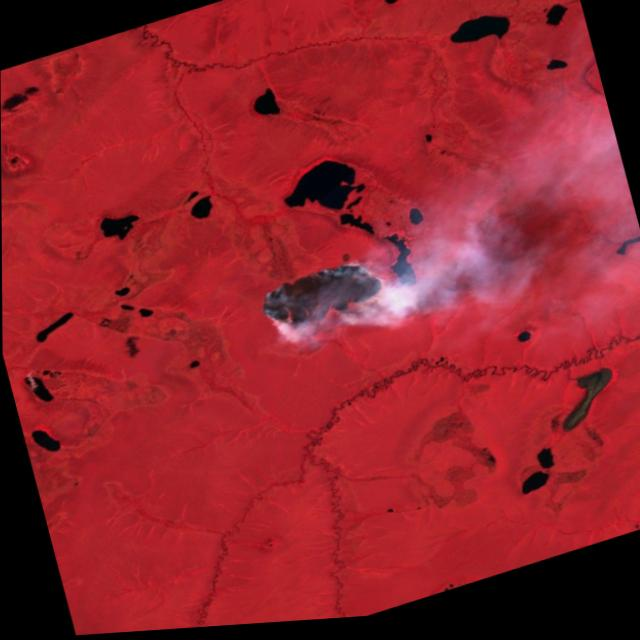fire: (246, 245, 395, 348)
